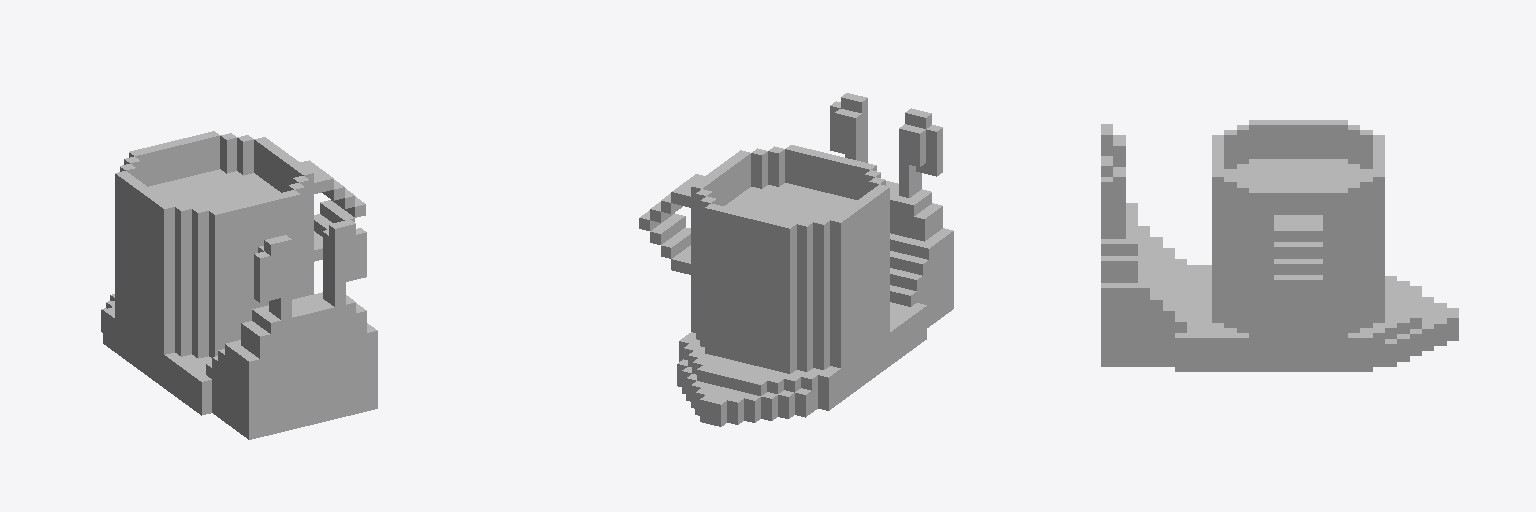
The model's file is Smugma.obj.
3 renders of one model, left to right at view 1: azimuth 30°, elevation 25°; view 2: azimuth 150°, elevation 25°; view 3: azimuth 270°, elevation 25°, orthographic.
Visible parts, largest first — view 1: object 1; view 2: object 1; view 3: object 1.
Boxes of the visible parts, <box> form: object 1: <box>101,131,377,439</box>; object 1: <box>639,93,953,426</box>; object 1: <box>1101,120,1458,371</box>.
Size of the model in its own units: 2 by 1.7 by 2.9.